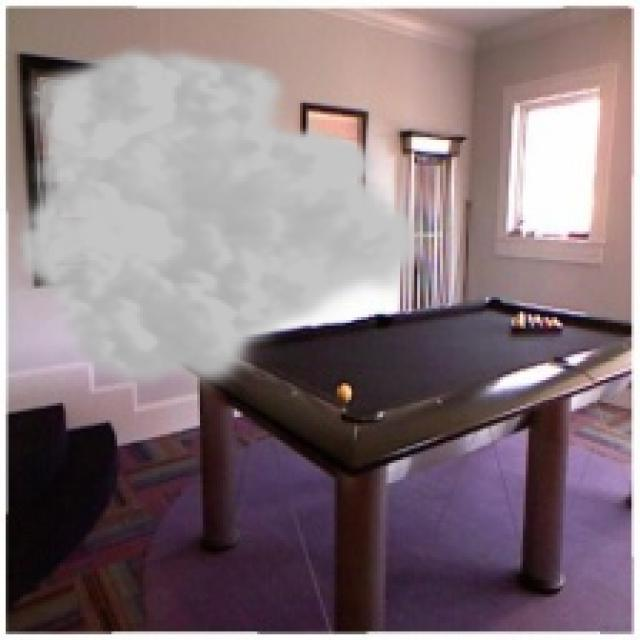smoke: (12, 40, 437, 397)
